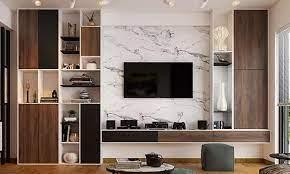TV: (122, 60, 196, 101)
chair: (199, 142, 238, 174), (255, 162, 290, 174)
console: (102, 128, 274, 142)
light: (94, 0, 113, 9), (32, 0, 47, 8), (229, 0, 243, 8)
table: (267, 151, 290, 163)
